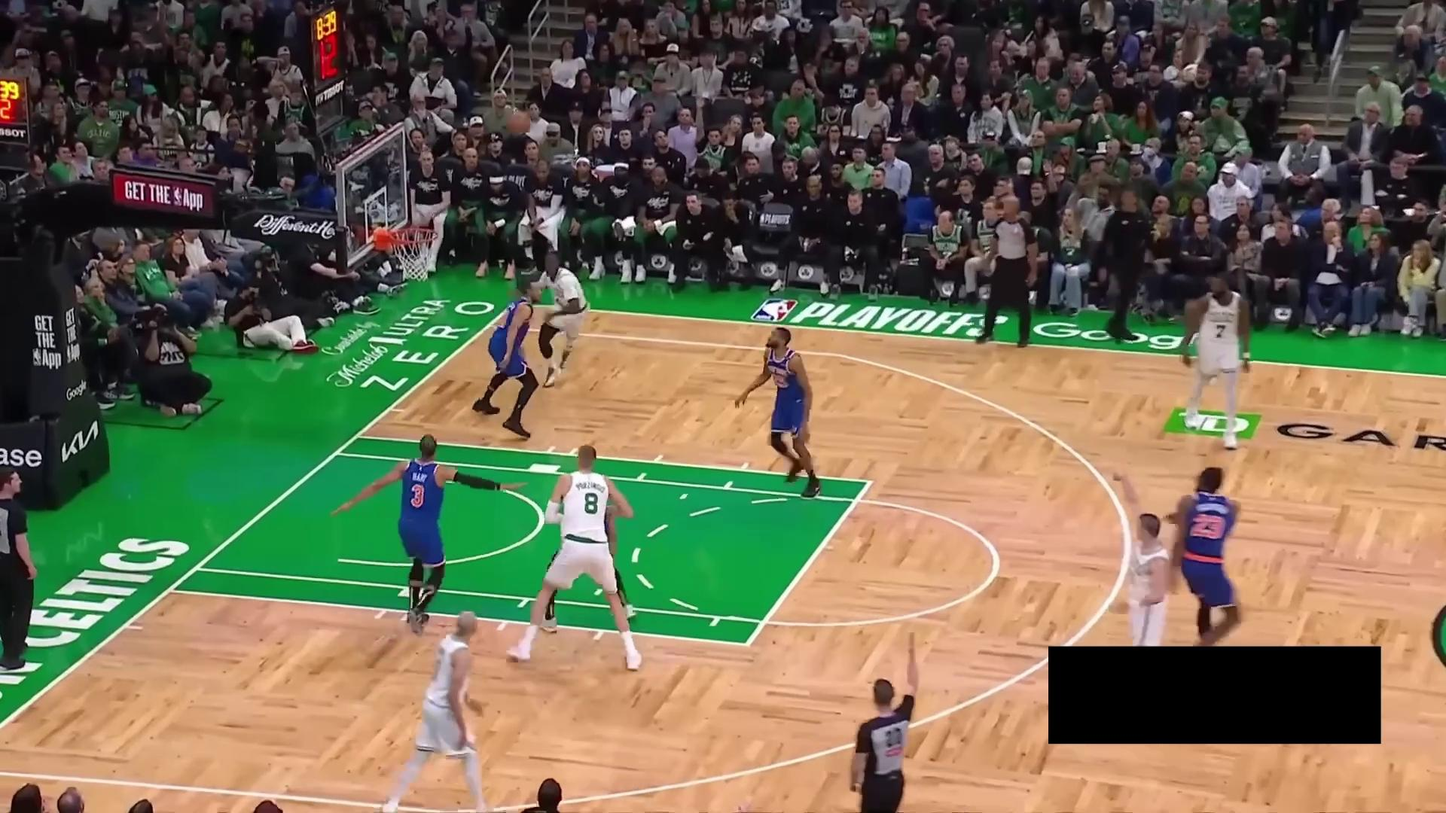ball: (506, 110, 535, 136)
number: (1189, 509, 1230, 539), (410, 483, 426, 508), (584, 492, 598, 516), (1216, 323, 1226, 340)
player: (330, 434, 529, 635), (507, 443, 642, 673), (381, 612, 494, 813), (732, 324, 826, 501), (530, 491, 636, 635), (1169, 462, 1249, 644), (1177, 272, 1254, 452), (1102, 464, 1171, 645), (471, 276, 544, 439), (532, 251, 589, 389)
referee: (849, 629, 920, 813), (967, 189, 1040, 348), (0, 462, 46, 673)
rim: (388, 227, 439, 245)
